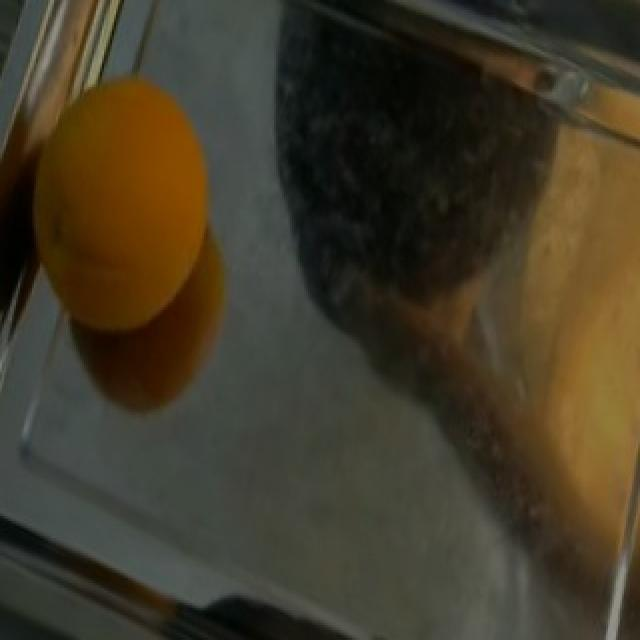Fruit: (2, 52, 236, 362)
